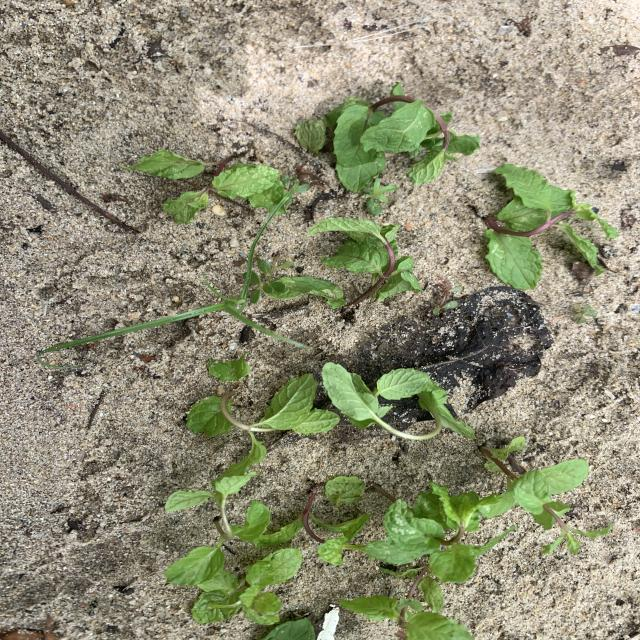crop: (165, 374, 339, 625), (297, 84, 479, 190), (485, 164, 618, 288), (363, 483, 489, 582), (129, 150, 309, 212), (323, 367, 475, 439), (309, 218, 420, 308), (479, 436, 586, 519), (253, 491, 369, 565), (340, 576, 474, 639), (530, 461, 611, 553), (279, 276, 347, 309), (163, 185, 210, 224), (324, 476, 365, 507), (263, 619, 315, 640), (208, 358, 249, 381)
weed: (41, 200, 310, 354), (247, 255, 294, 301), (364, 177, 395, 215), (572, 304, 597, 323)
